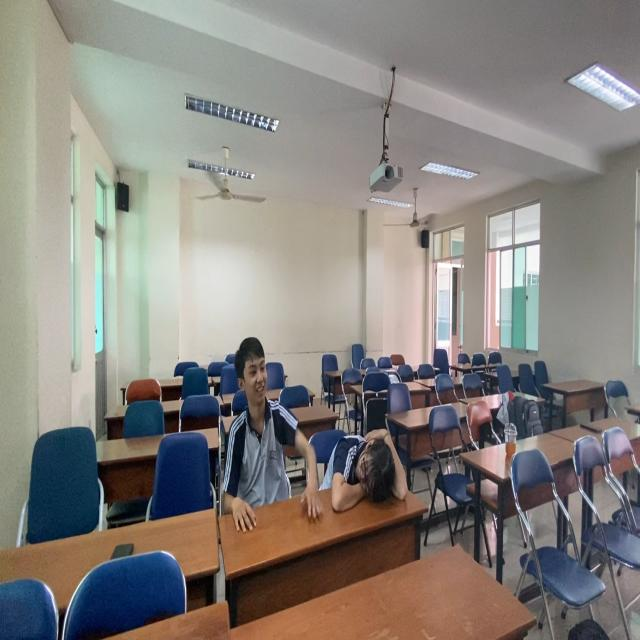sleep: (321, 411, 414, 528)
